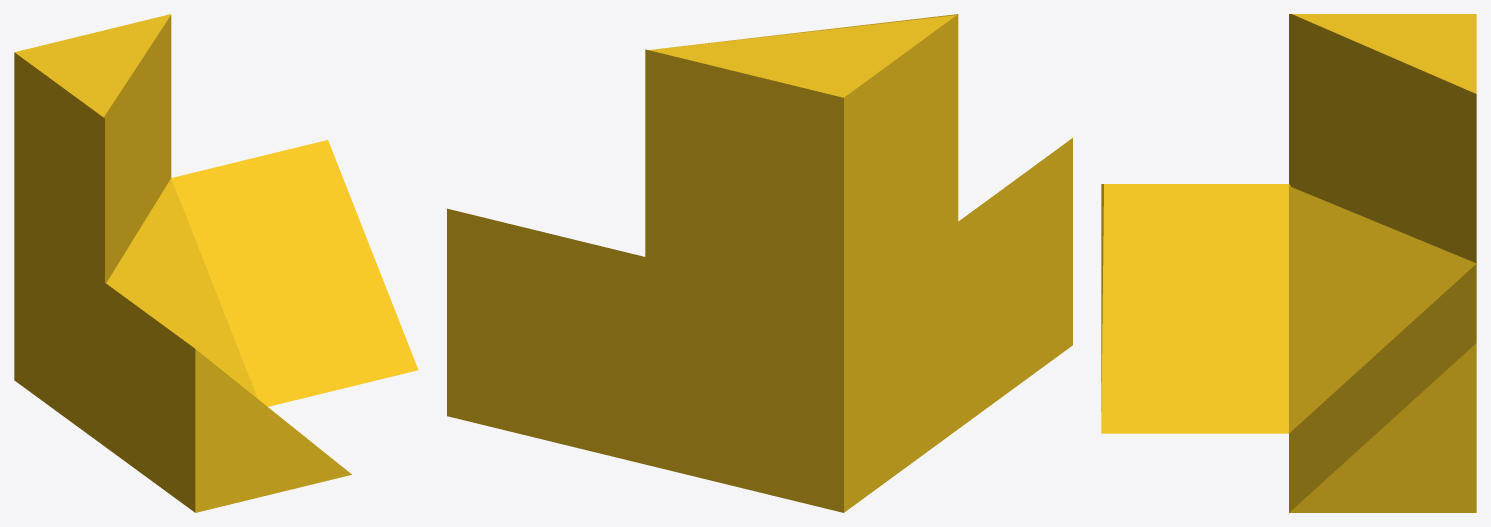
File: r5c5_border_yellow.gltf
3 views of the same model, side by side, from view 1: azimuth 30°, elevation 25°; view 2: azimuth 150°, elevation 25°; view 3: azimuth 270°, elevation 25° (orthographic). The views are drawn at different scales.
Visible parts, largest first — view 1: r5c5_border_yellow; view 2: r5c5_border_yellow; view 3: r5c5_border_yellow.
Boxes of the visible parts, x1,y1,x2,y2 form: r5c5_border_yellow: (14,14,418,512); r5c5_border_yellow: (447,14,1072,512); r5c5_border_yellow: (1101,14,1476,512).
Size of the model in its own units: 2.1 by 2.1 by 2.1.
Materials: 1 (1 with a texture image).
